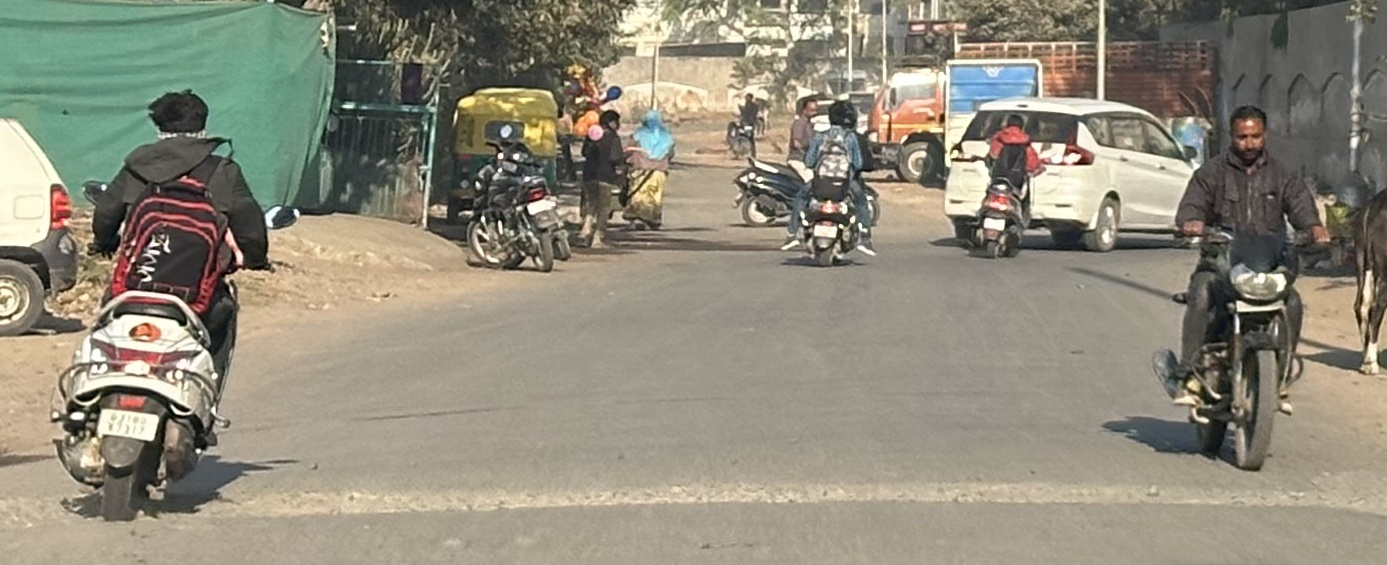BikeWithRider: (22, 69, 338, 524), (1142, 99, 1341, 488), (763, 90, 916, 278), (940, 101, 1085, 273), (728, 93, 852, 230)
NoHelmet: (131, 82, 229, 139), (1210, 101, 1284, 167), (838, 105, 862, 133), (1001, 112, 1030, 135), (829, 100, 849, 125), (799, 98, 818, 118)
